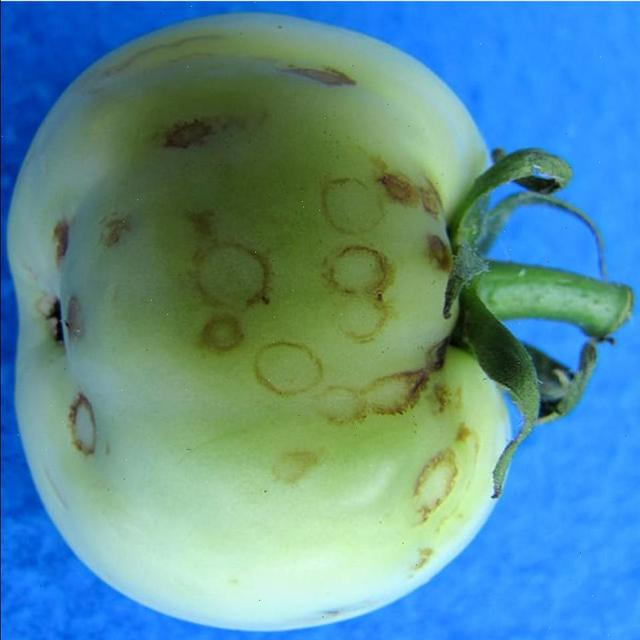Spotted wilt Virus Fruit: (174, 141, 488, 378)
